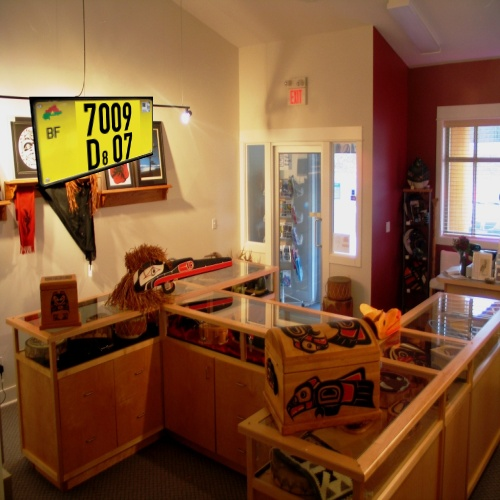plate: (18, 71, 175, 204)
